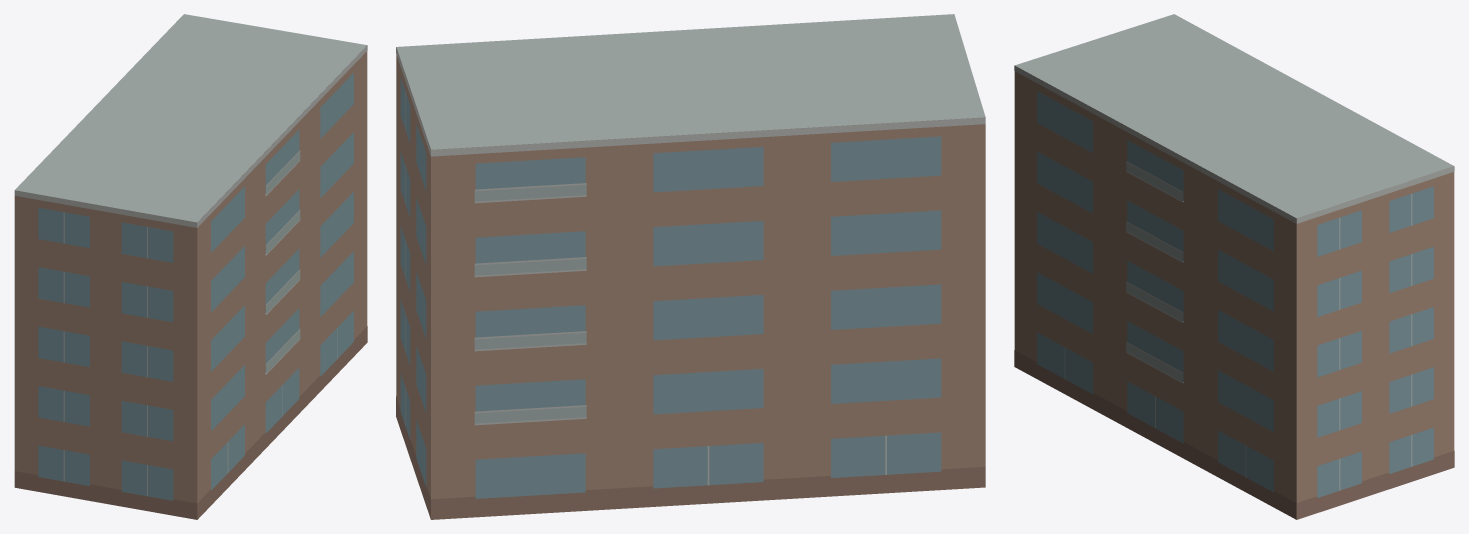
File: survey-upis-32762078.glb
3 renders of one model, left to right at view 1: azimuth 30°, elevation 25°; view 2: azimuth 150°, elevation 25°; view 3: azimuth 270°, elevation 25°, orthographic. The views are drawn at different scales.
Parts seen in each view (by area): view 1: survey-upis-32762078.tmp; view 2: survey-upis-32762078.tmp; view 3: survey-upis-32762078.tmp.
Boxes of the visible parts, bbox=[...] form: survey-upis-32762078.tmp: bbox=[14, 14, 367, 519]; survey-upis-32762078.tmp: bbox=[396, 14, 985, 519]; survey-upis-32762078.tmp: bbox=[1014, 14, 1454, 519].
Size of the model in its own units: 19.35 by 13.3 by 17.6.
